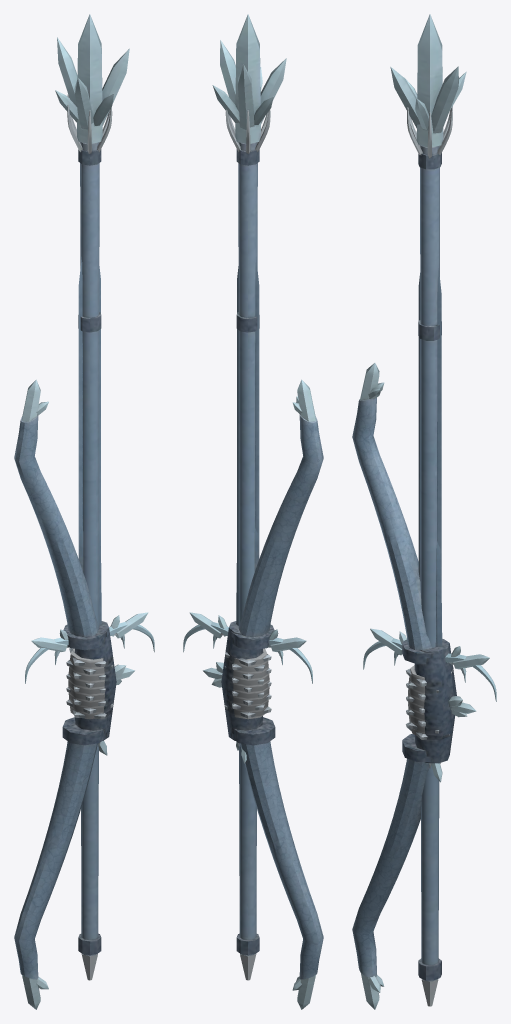
The model's file is weapons_glacial.glb.
3 views of the same model, side by side, from view 1: azimuth 30°, elevation 25°; view 2: azimuth 150°, elevation 25°; view 3: azimuth 330°, elevation 25° (orthographic). The views are drawn at different scales.
Visible parts, largest first — view 1: bow, staff, blade, spellblade, dagger; view 2: bow, staff, blade, spellblade, dagger; view 3: bow, staff, blade, spellblade, dagger.
Part boxes in pixels (bbox=[...]): bow: bbox=[14, 379, 134, 1009]; staff: bbox=[55, 14, 129, 980]; blade: bbox=[25, 257, 154, 683]; spellblade: bbox=[31, 612, 148, 755]; dagger: bbox=[55, 527, 124, 664]; bow: bbox=[203, 379, 323, 1009]; staff: bbox=[212, 14, 286, 980]; blade: bbox=[183, 257, 312, 683]; spellblade: bbox=[189, 612, 306, 763]; dagger: bbox=[213, 526, 282, 664]; bow: bbox=[352, 363, 476, 1009]; staff: bbox=[390, 14, 466, 1006]; blade: bbox=[363, 268, 496, 701]; spellblade: bbox=[370, 628, 489, 782]; dagger: bbox=[394, 540, 465, 682].
Bounding box in the file's own units: 0.3235 × 2.18 × 0.1495.
Materials: 5 (5 with a texture image).
